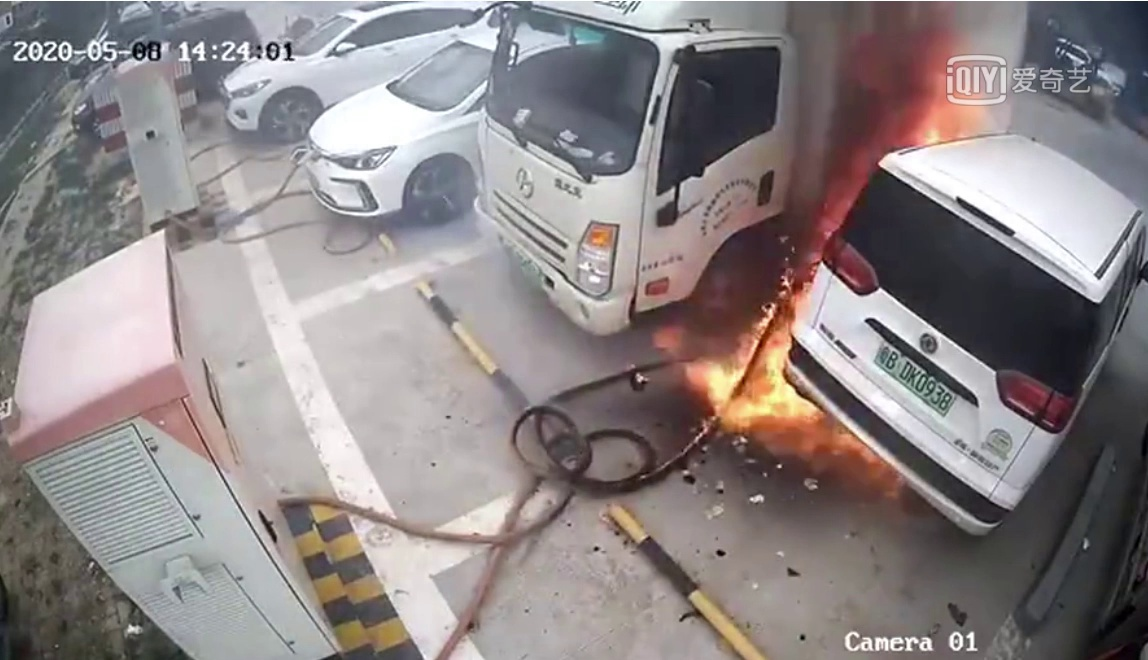fire: (672, 299, 802, 432)
